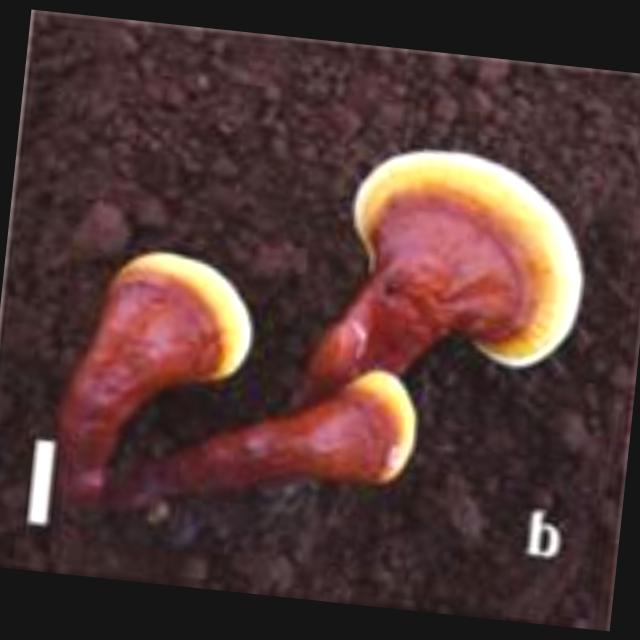ganoderma: (338, 140, 600, 379), (88, 245, 264, 394), (307, 360, 426, 495)
